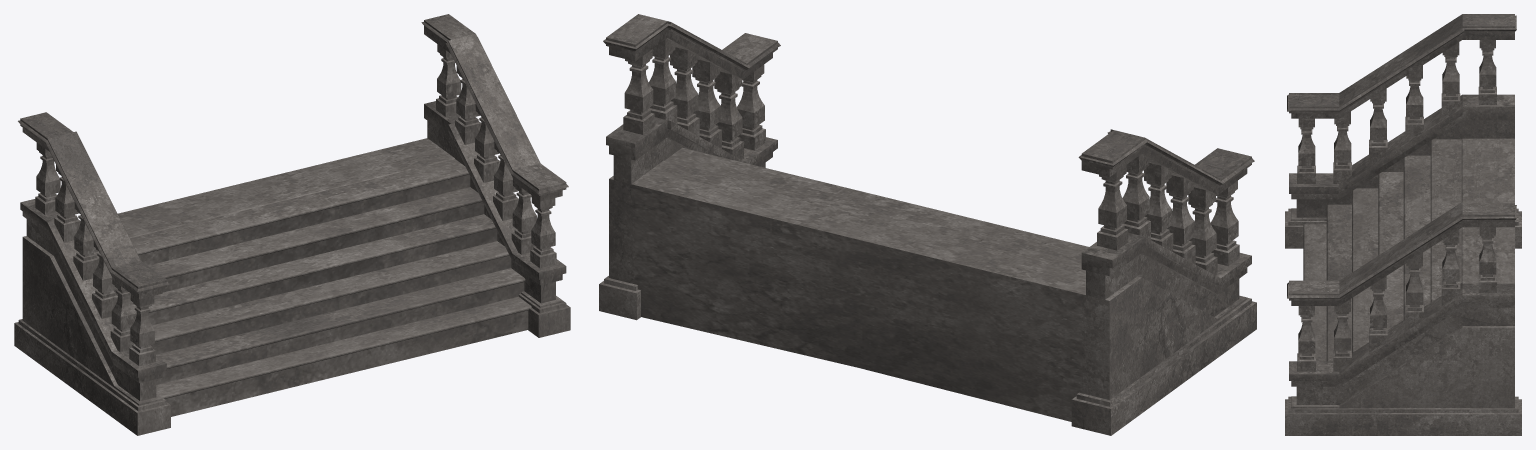
The model's file is SK7 STAIR EXT 2.fbx.
The picture shows the model from 3 angles, left to right: view 1: azimuth 30°, elevation 25°; view 2: azimuth 150°, elevation 25°; view 3: azimuth 270°, elevation 25°; orthographic projection. The views are drawn at different scales.
Visible parts, largest first — view 1: SK7 STAIR EXT 2; view 2: SK7 STAIR EXT 2; view 3: SK7 STAIR EXT 2.
Boxes of the visible parts, bbox=[...] form: SK7 STAIR EXT 2: bbox=[14, 14, 570, 435]; SK7 STAIR EXT 2: bbox=[599, 14, 1256, 435]; SK7 STAIR EXT 2: bbox=[1285, 14, 1521, 435].
Size of the model in its own units: 432 by 219 by 213.
